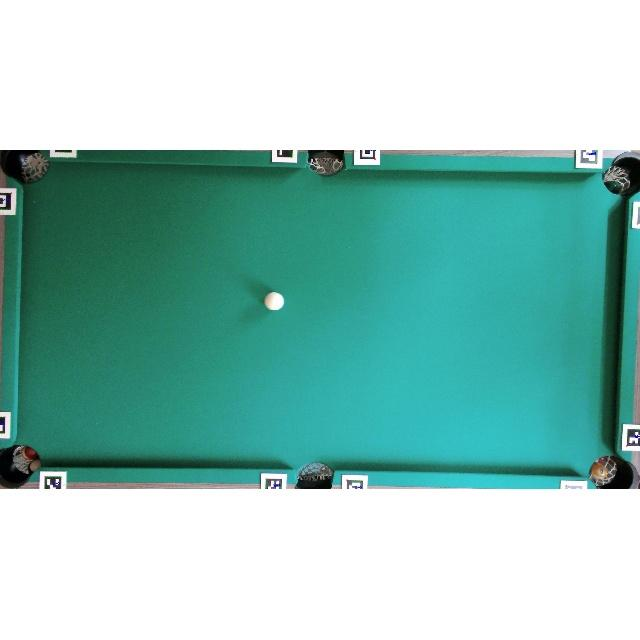cue ball: (263, 291, 285, 311)
